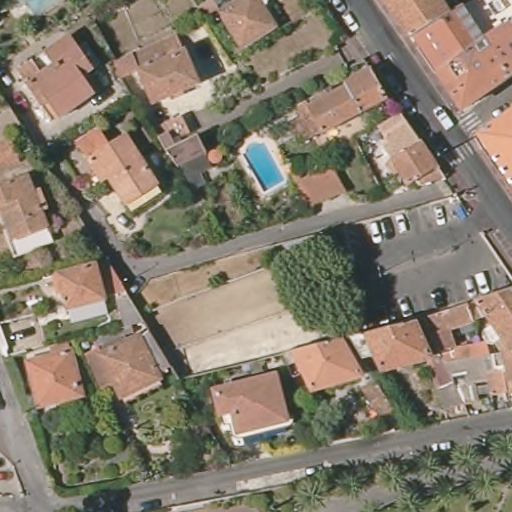pool: (241, 140, 287, 191)
